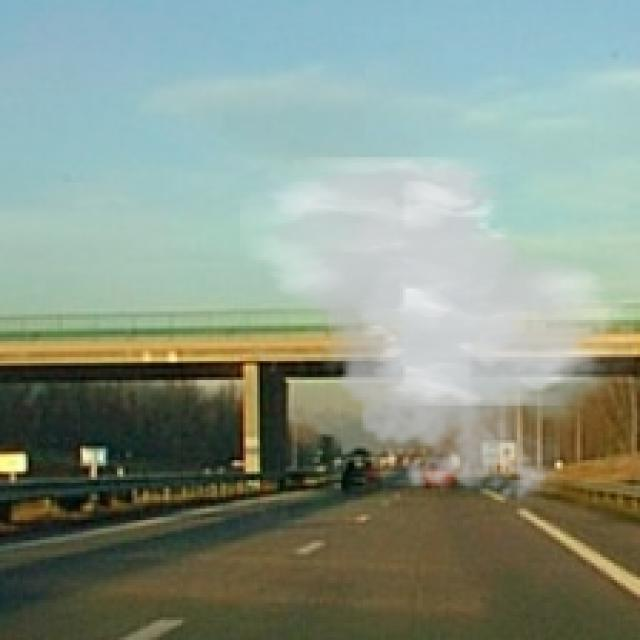Smoke: (240, 157, 634, 512)
